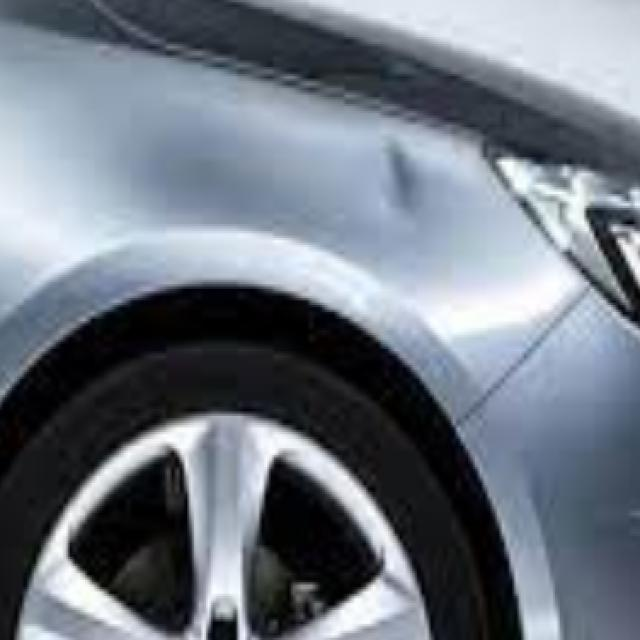dents: (366, 112, 458, 262)
